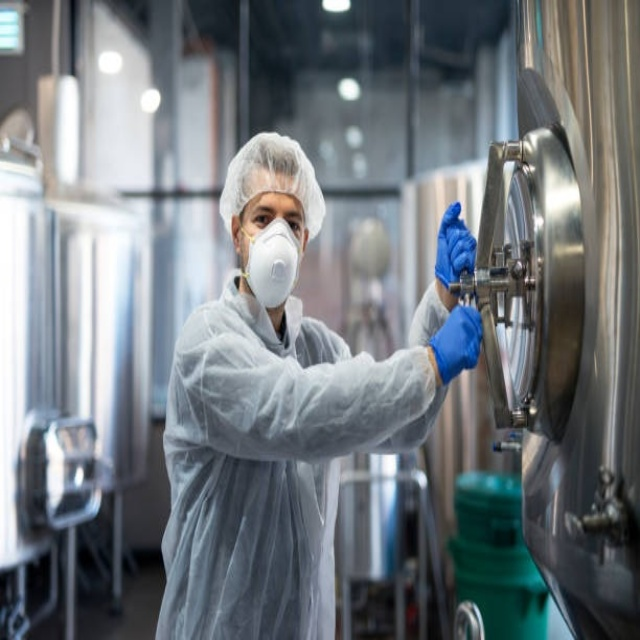Guantes: (429, 303, 483, 387), (434, 200, 477, 294)
Mascara: (242, 218, 301, 310)
Sin_gafas: (247, 201, 301, 237)
